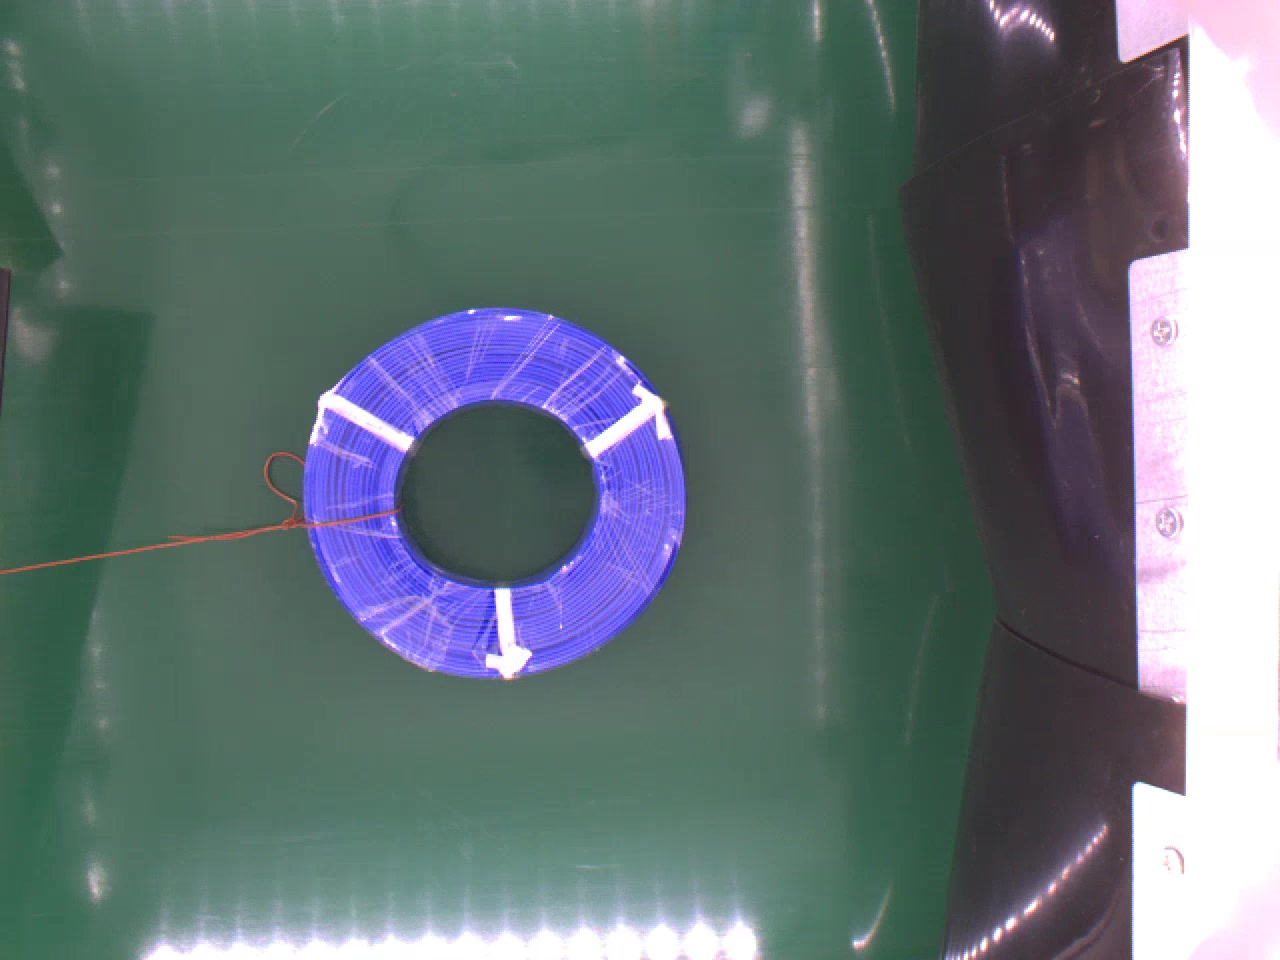blue: (294, 296, 689, 676)
